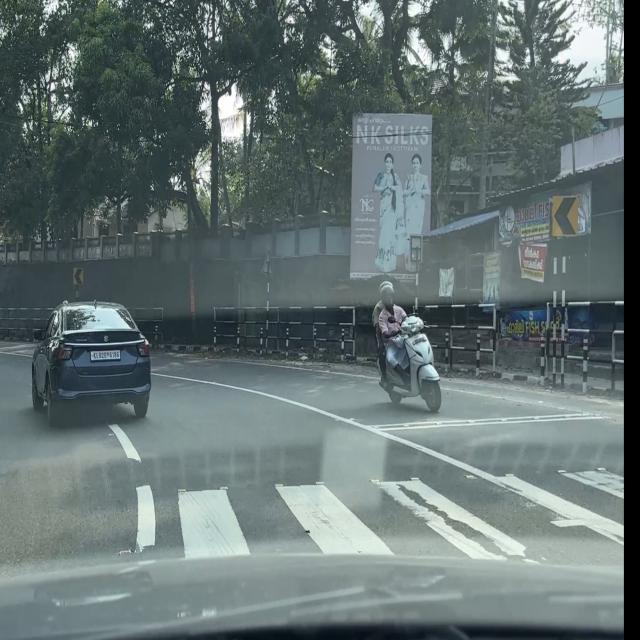TURN_LEFT: (553, 195, 578, 237), (73, 267, 84, 286)
